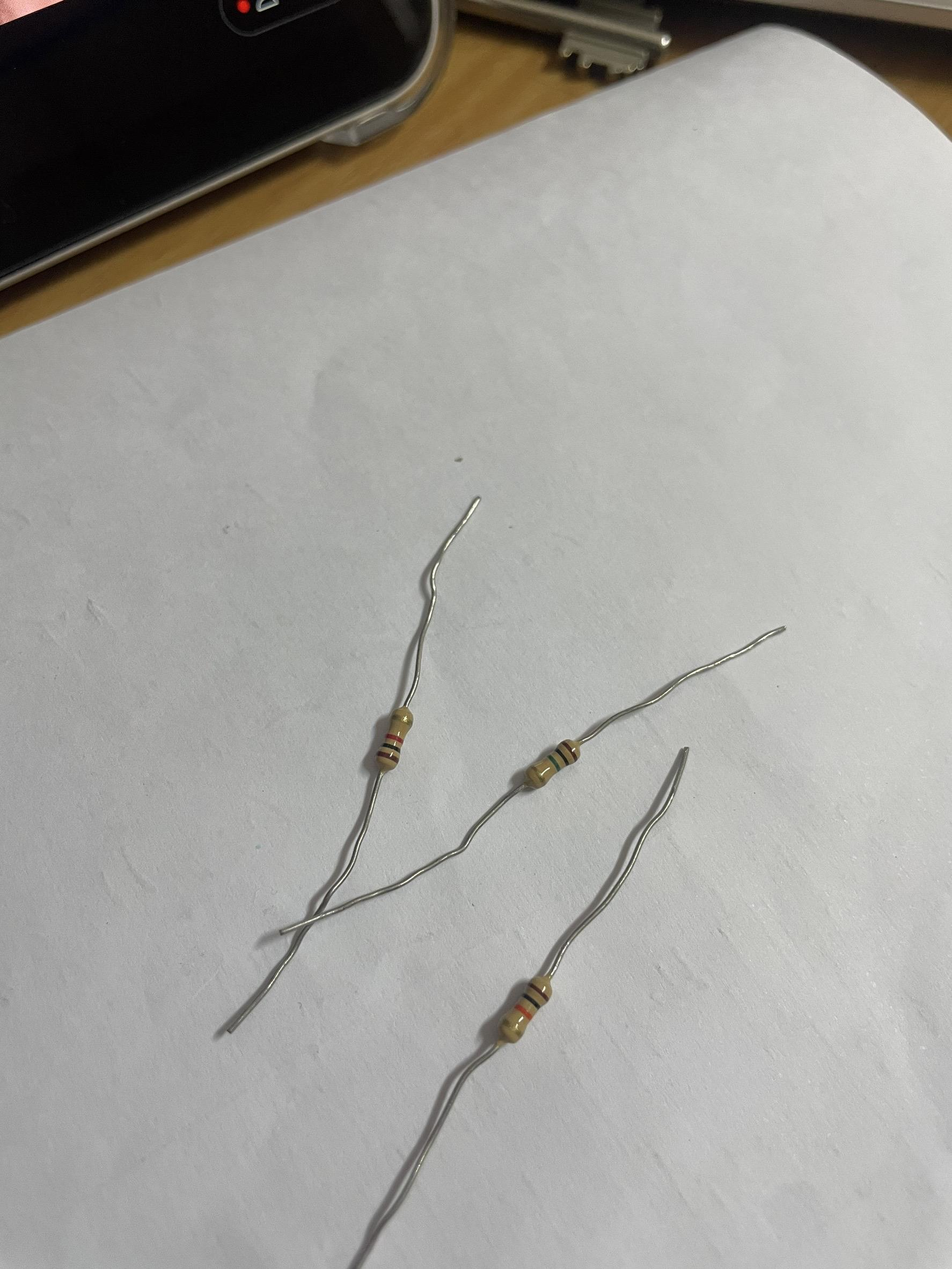resistor: (500, 971, 557, 1044), (519, 741, 580, 789), (374, 707, 417, 769)
